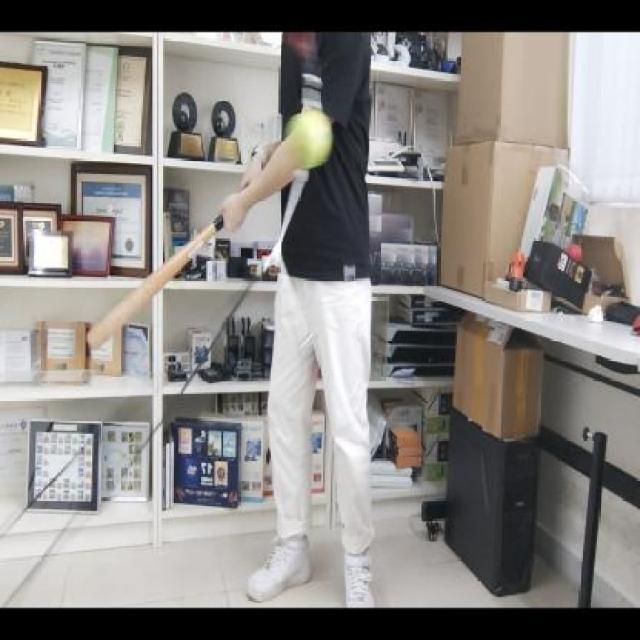baseball: (284, 106, 336, 168)
